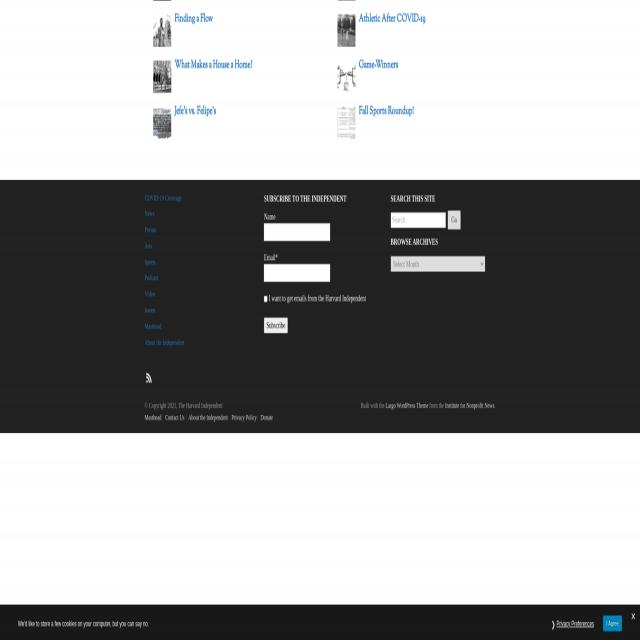button: (337, 59, 356, 97), (338, 105, 356, 143), (154, 12, 172, 48), (153, 59, 172, 93), (154, 105, 172, 140), (338, 15, 356, 48), (264, 318, 288, 333), (603, 614, 622, 632), (448, 210, 460, 230), (144, 370, 154, 384), (630, 610, 636, 622)
field: (391, 256, 485, 272), (264, 223, 330, 241), (264, 264, 330, 282), (390, 212, 446, 228)
